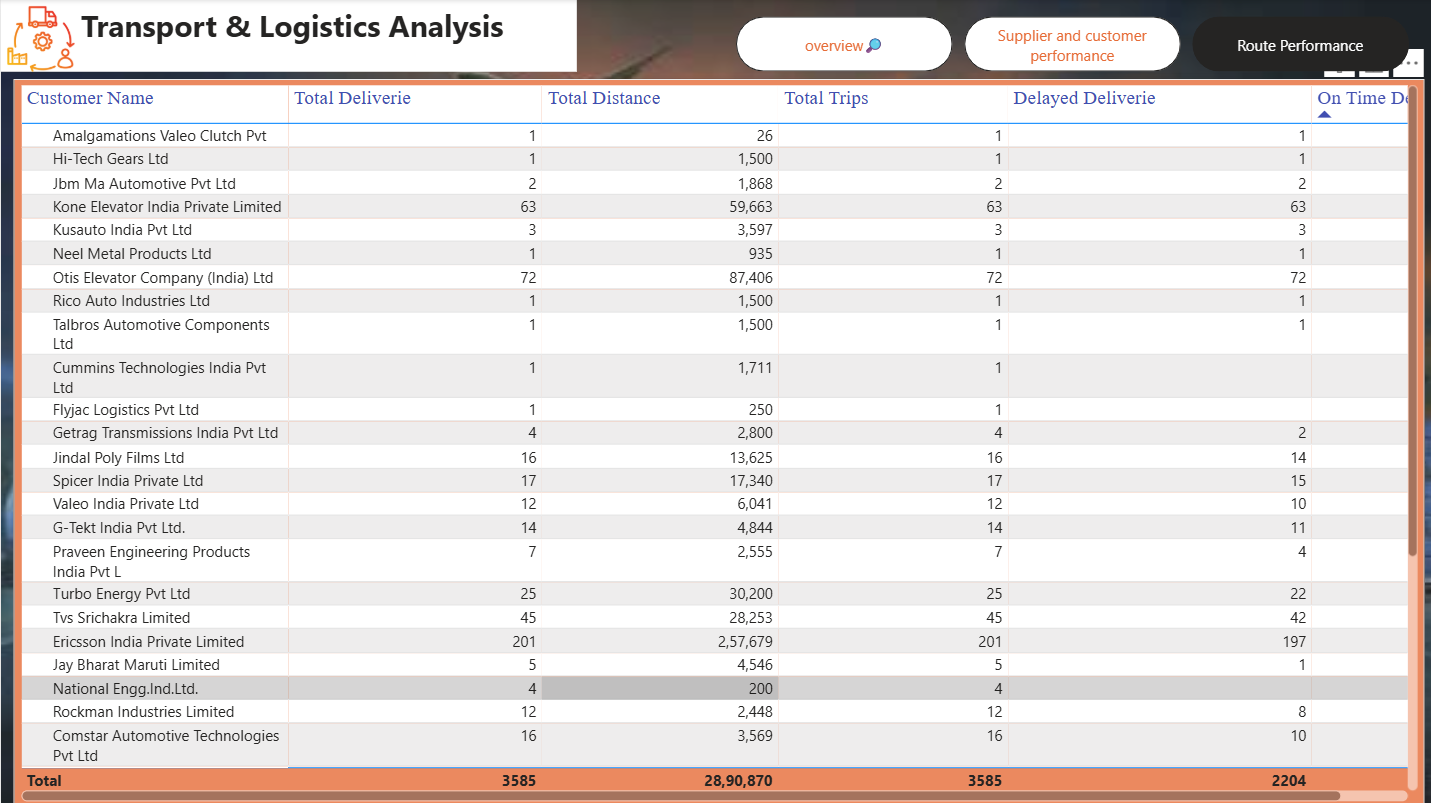

This screenshot's page, from the dashboard's own definition file:
{"tool":"powerbi","page":{"name":"Route Performance ","canvas":[1280,720],"ordinal":2},"visuals":[{"type":"tableEx","fields":{"Values":["Primary Data.Customer Name","Data Dictionary.Total Deliverie","Data Dictionary.Total Distance","Data Dictionary.Total Trips","Data Dictionary.Delayed Deliverie","Data Dictionary.On Time Deliveries"]},"box":[11,71.4,1257,649.1],"z":0},{"type":"actionButton","box":[0,0,100,40],"z":1000},{"type":"textbox","box":[0,0,513.2,64.6],"z":2000},{"type":"image","box":[0,0,71.2,71.2],"z":3000},{"type":"pageNavigator","box":[655,15.4,601.6,49.8],"z":4000}]}

Visuals, with their boxes in screenshot pixels (x1, y1, x2, y2), scaled from the page's 1280x720 canvas onto the 1431x803 screenshot:
tableEx - Primary Data.Customer Name x Data Dictionary.Total Deliverie: [12,80,1418,802]
actionButton: [0,0,112,45]
textbox: [0,0,574,72]
image: [0,0,80,79]
pageNavigator: [732,17,1405,73]
